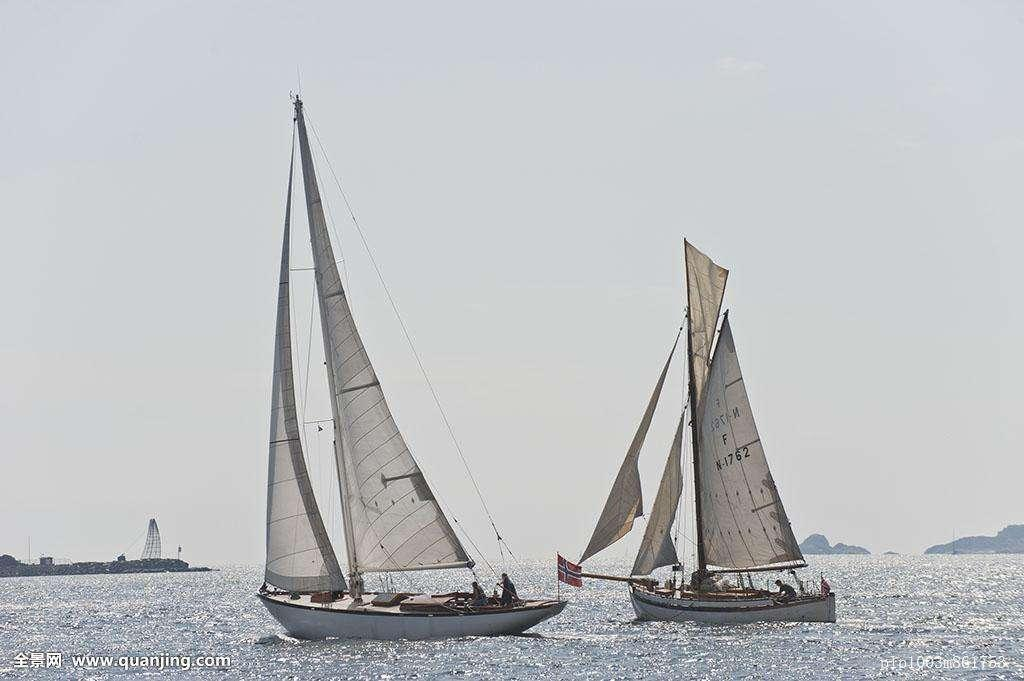fanchuan: (238, 64, 572, 644), (580, 234, 848, 624)
